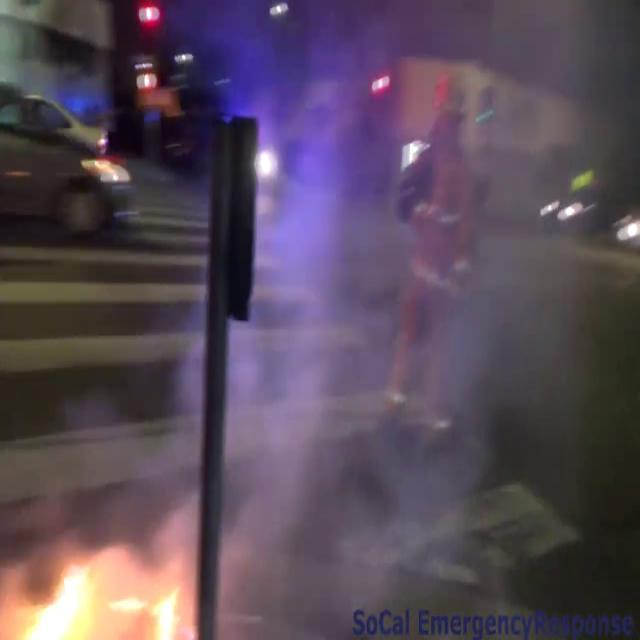Fire: (2, 543, 197, 640)
Smoke: (234, 3, 640, 626)
